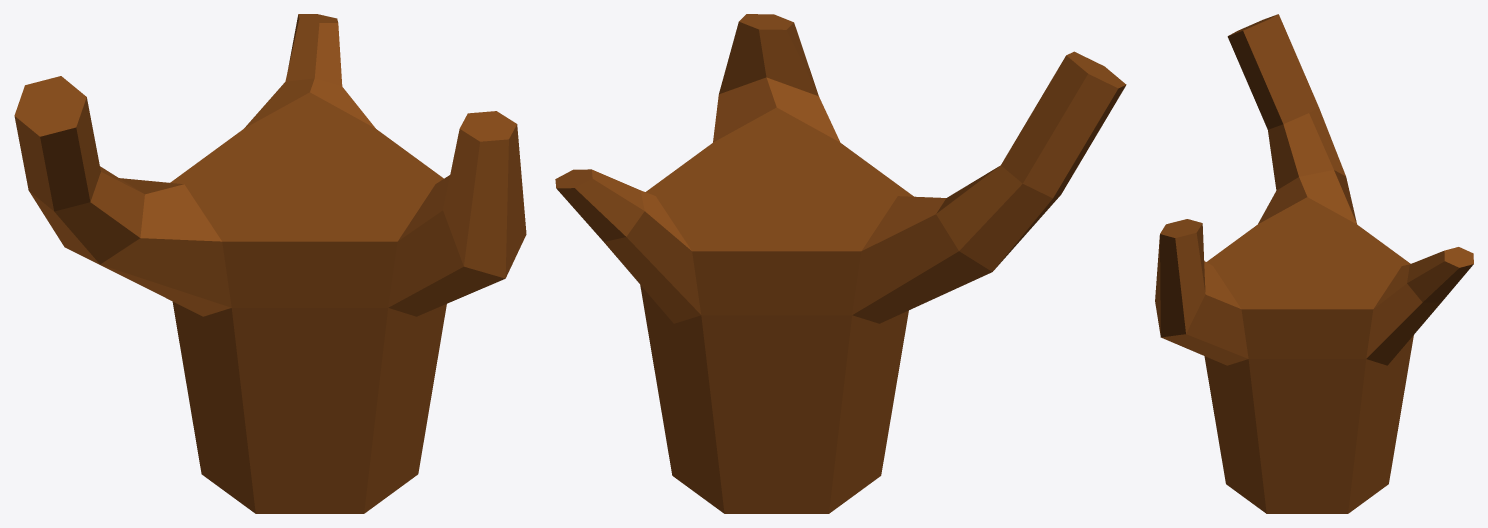
Rendered from tree_top.fbx.
The picture shows the model from 3 angles, left to right: view 1: azimuth 30°, elevation 25°; view 2: azimuth 150°, elevation 25°; view 3: azimuth 270°, elevation 25°; orthographic projection. The views are drawn at different scales.
Parts seen in each view (by area): view 1: Cylinder.007; view 2: Cylinder.007; view 3: Cylinder.007.
Part boxes in pixels (x1,y1,x2,y2): Cylinder.007: (14,14,526,513); Cylinder.007: (555,14,1126,513); Cylinder.007: (1155,14,1473,513).
Size of the model in its own units: 3.27 by 3.29 by 2.61.
